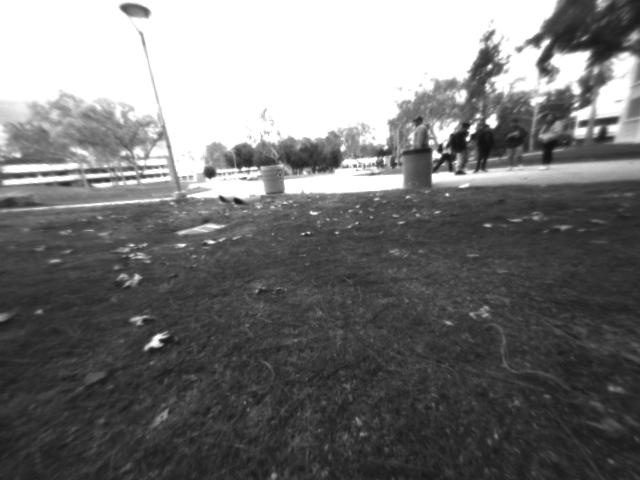trashcan: (403, 146, 430, 194), (259, 161, 290, 197)
